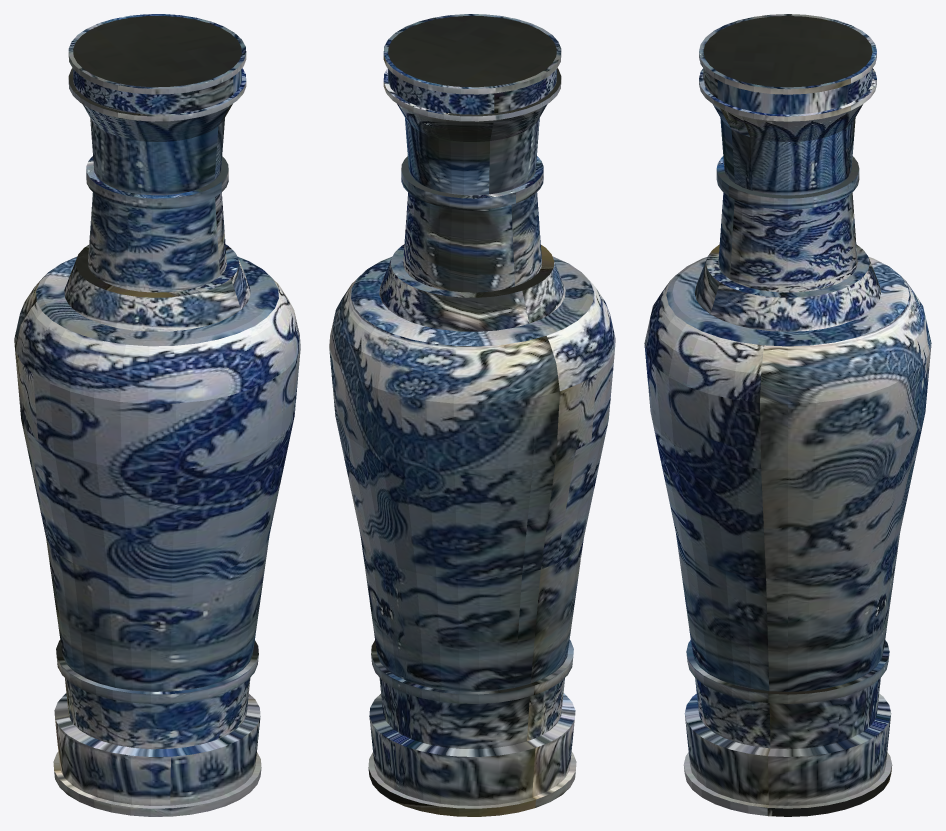
The model's file is porcelain.fbx.
The picture shows the model from 3 angles, left to right: view 1: azimuth 30°, elevation 25°; view 2: azimuth 150°, elevation 25°; view 3: azimuth 270°, elevation 25°; orthographic projection.
Parts seen in each view (by area): view 1: Cylinder; view 2: Cylinder; view 3: Cylinder.
Part boxes in pixels (<box>): Cylinder: <box>14,14,300,816</box>; Cylinder: <box>329,14,615,816</box>; Cylinder: <box>644,14,931,816</box>.
Size of the model in its own units: 67.64 by 188 by 67.64.
